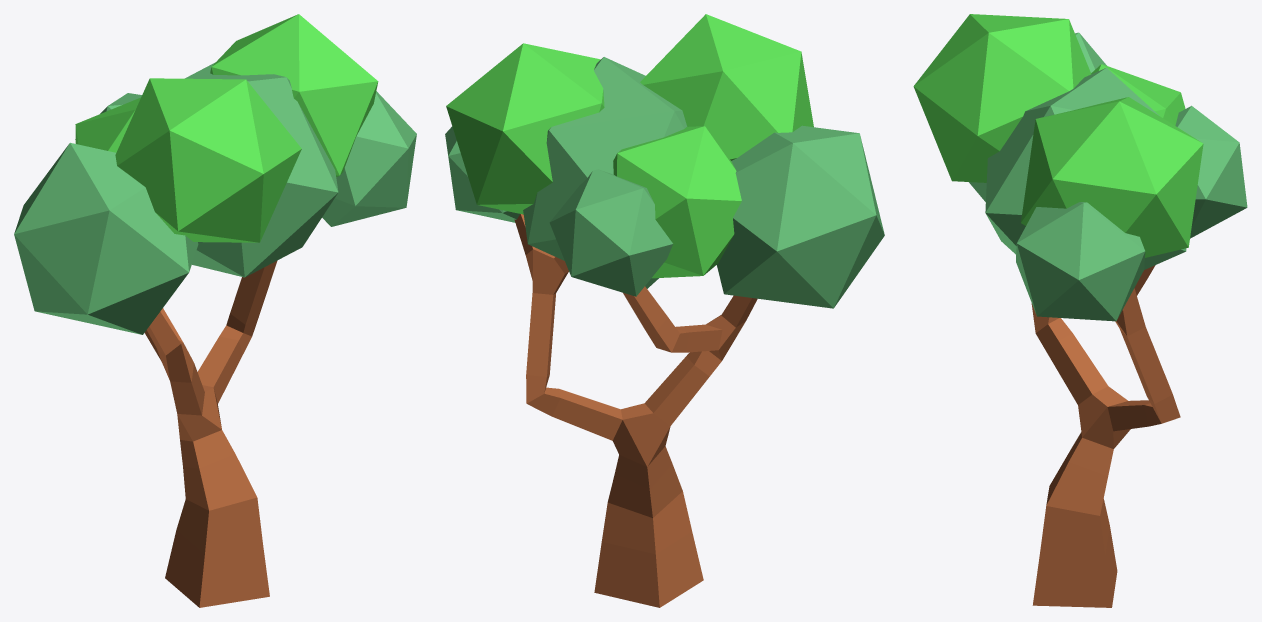
File: tree1_2.fbx
3 views of the same model, side by side, from view 1: azimuth 30°, elevation 25°; view 2: azimuth 150°, elevation 25°; view 3: azimuth 270°, elevation 25° (orthographic).
Parts seen in each view (by area): view 1: tree1; view 2: tree1; view 3: tree1.
Boxes of the visible parts, x1=… form: tree1: x1=14, y1=14, x2=416, y2=607; tree1: x1=445, y1=14, x2=884, y2=607; tree1: x1=913, y1=14, x2=1247, y2=607.
Size of the model in its own units: 380 by 474 by 261.
